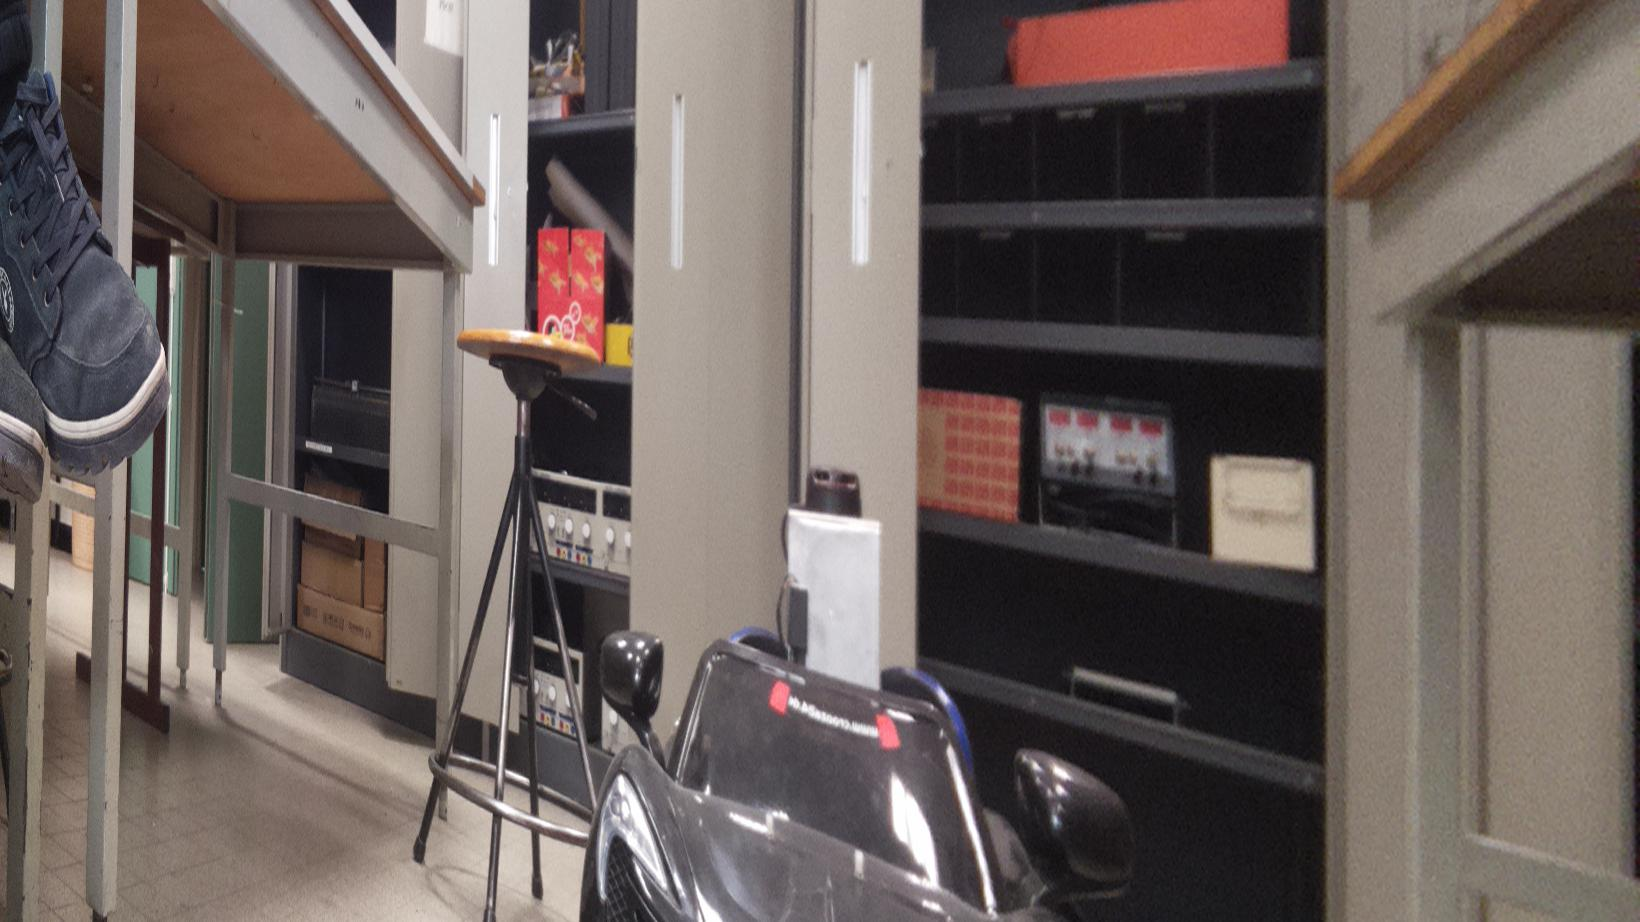big: (574, 468, 1149, 922)
